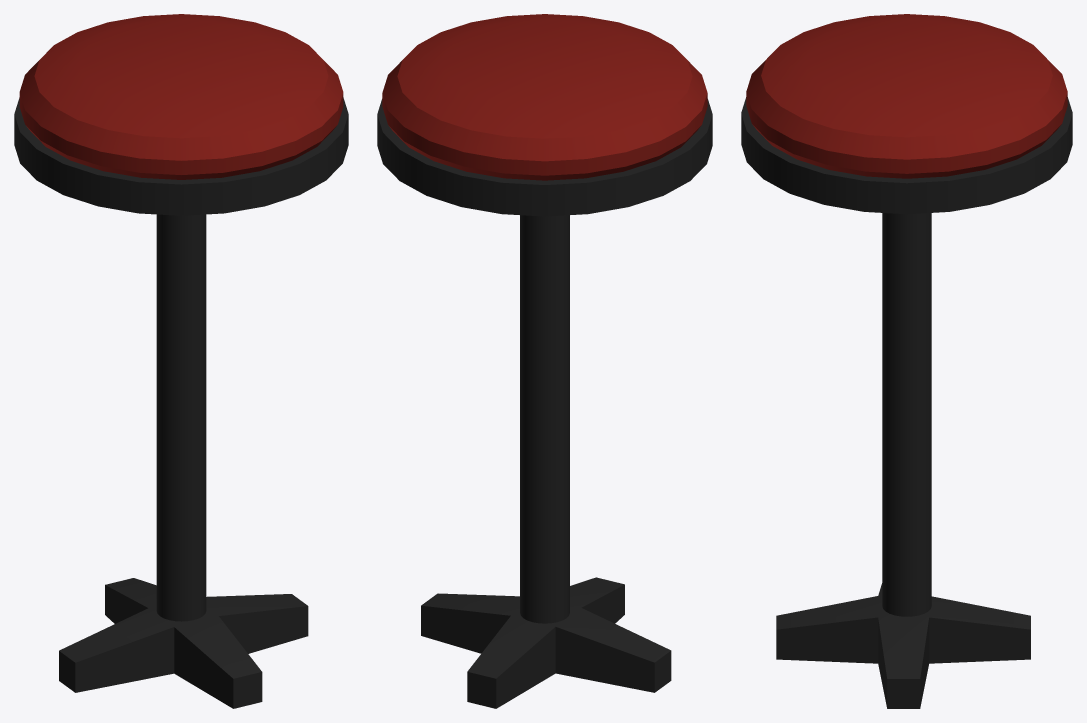
The model's file is stool.fbx.
3 views of the same model, side by side, from view 1: azimuth 30°, elevation 25°; view 2: azimuth 150°, elevation 25°; view 3: azimuth 270°, elevation 25° (orthographic).
Visible parts, largest first — view 1: Stool; view 2: Stool; view 3: Stool.
Boxes of the visible parts, <box> form: Stool: <box>14,14,348,708</box>; Stool: <box>377,14,712,708</box>; Stool: <box>741,14,1072,708</box>.
Size of the model in its own units: 34.47 by 34.47 by 67.65.
